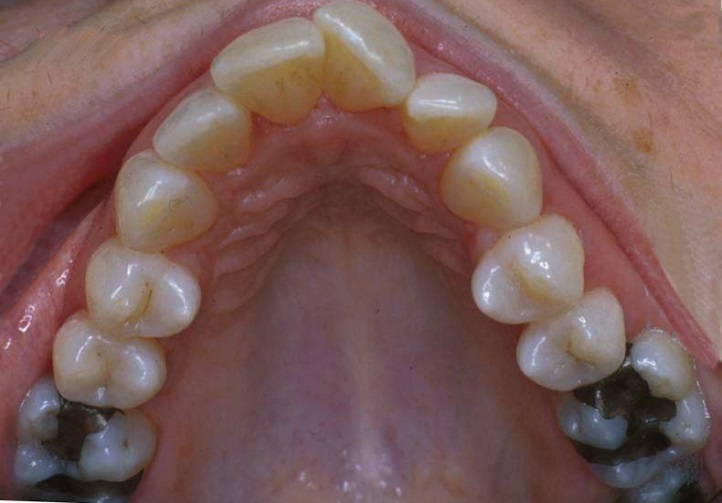UR1BC_healthy: (82, 248, 201, 341), (476, 230, 586, 317)
UR1M_decay: (17, 389, 155, 488), (565, 381, 695, 473)
UR2BC_healthy: (55, 322, 167, 405), (520, 310, 626, 387)
URCI_healthy: (231, 19, 327, 123), (325, 9, 407, 113)
URC_healthy: (115, 152, 219, 248), (442, 134, 540, 227)
URLI_healthy: (157, 97, 259, 175), (407, 77, 494, 144)
